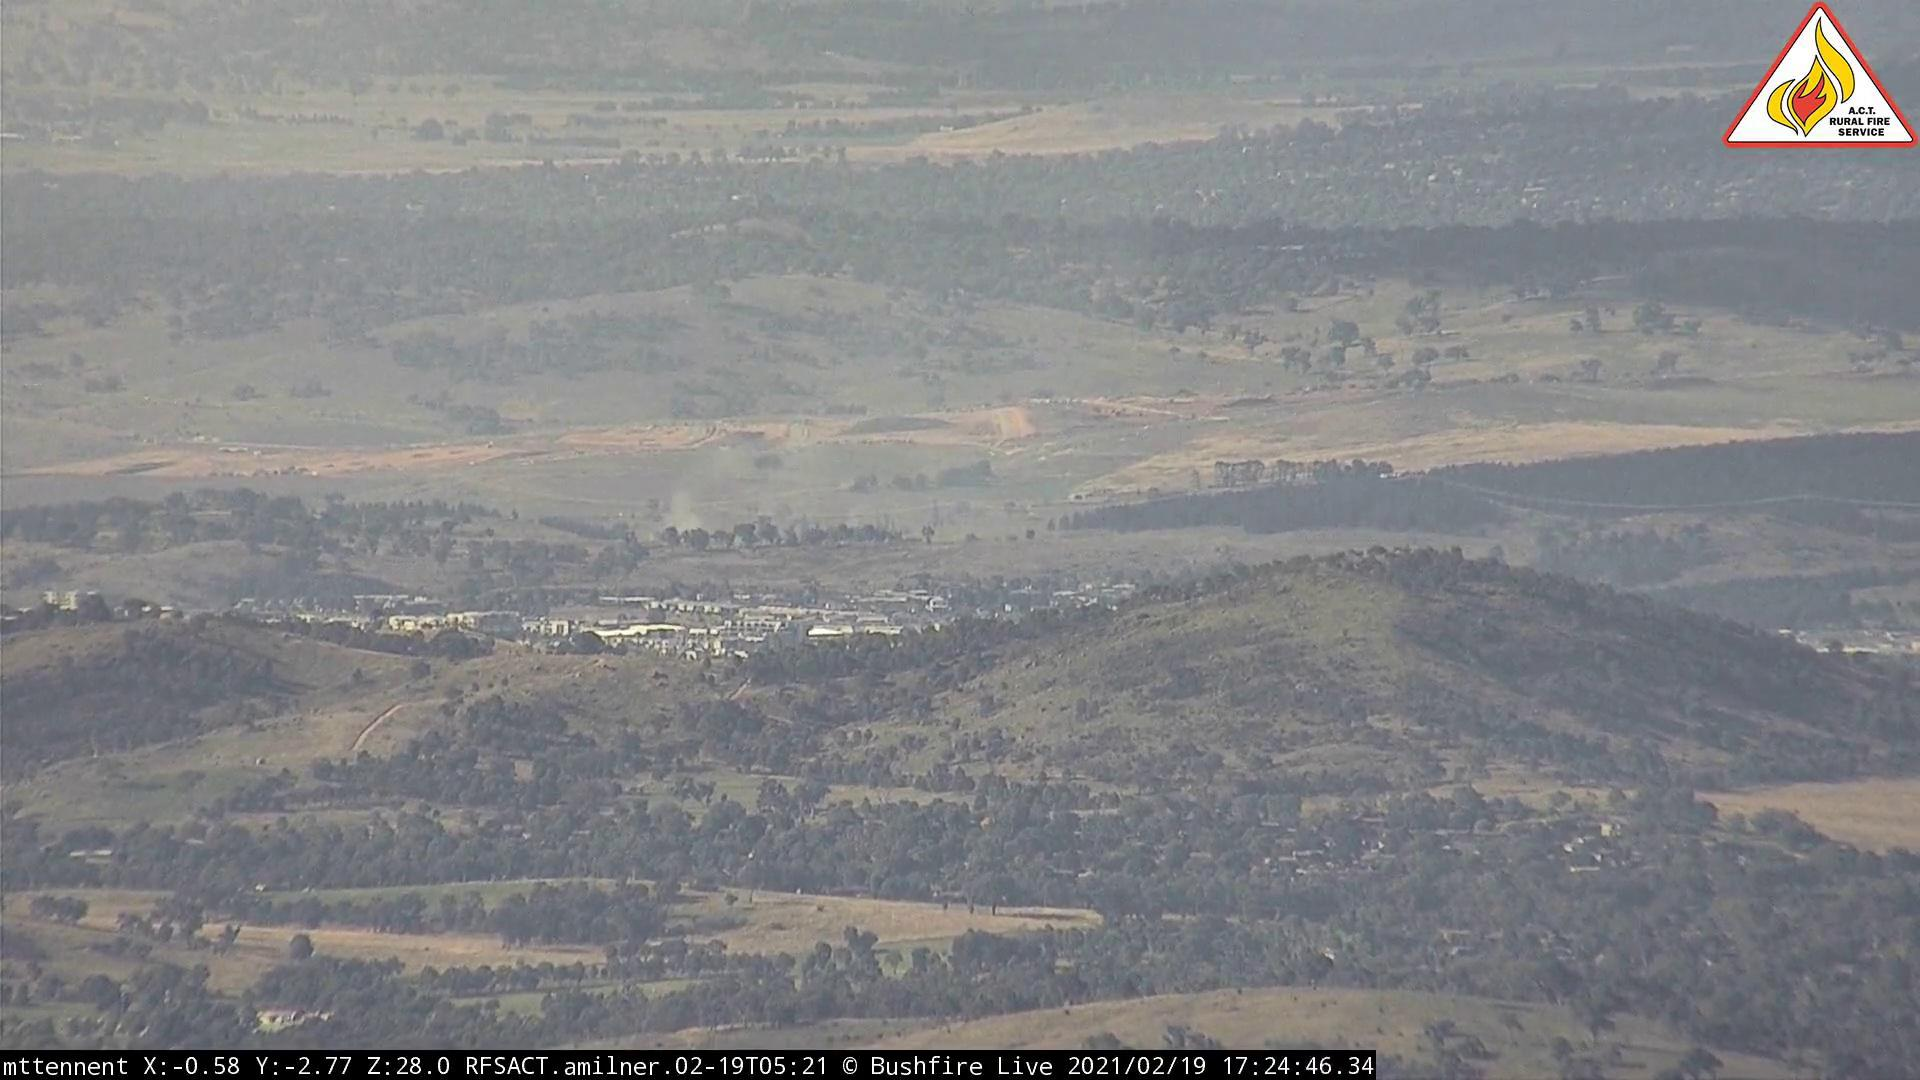instance_salient_object: (650, 468, 752, 549)
